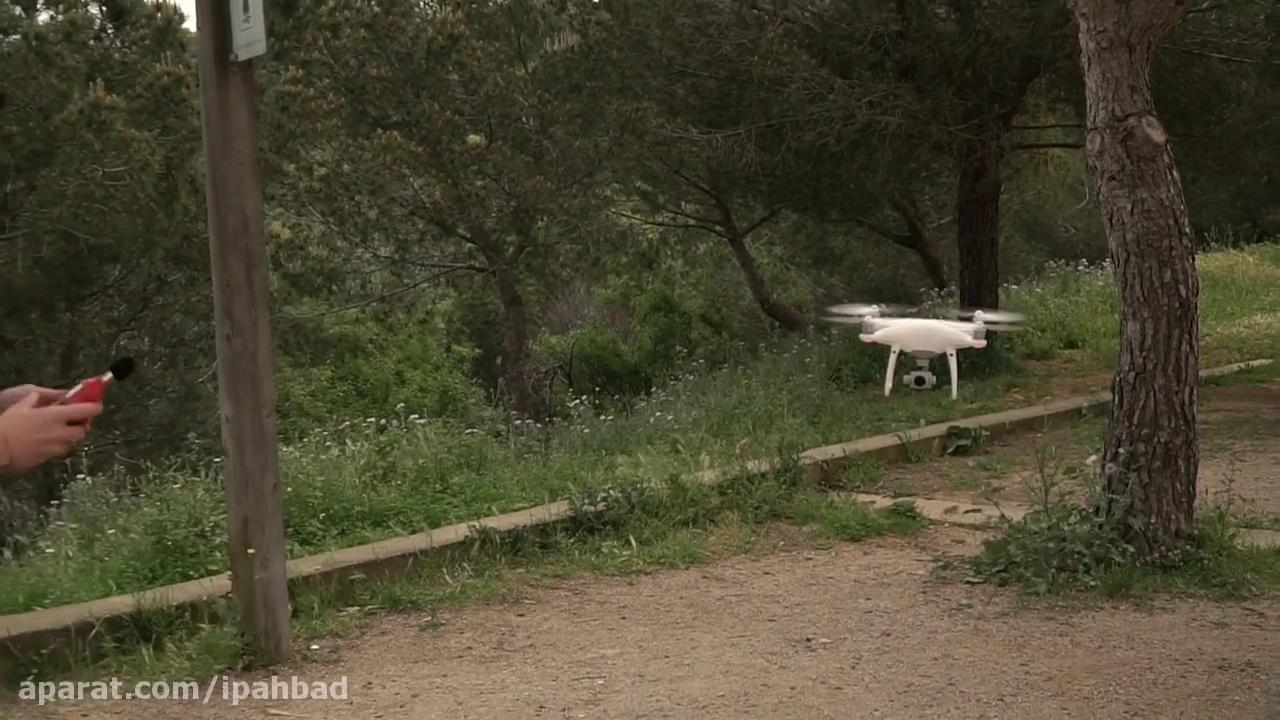drone: (824, 297, 1033, 399)
